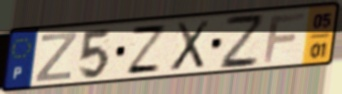5: (75, 26, 115, 81)
F: (261, 11, 308, 65)
X: (167, 18, 212, 74)
Z: (219, 14, 265, 72), (33, 30, 79, 83), (124, 24, 170, 76)
